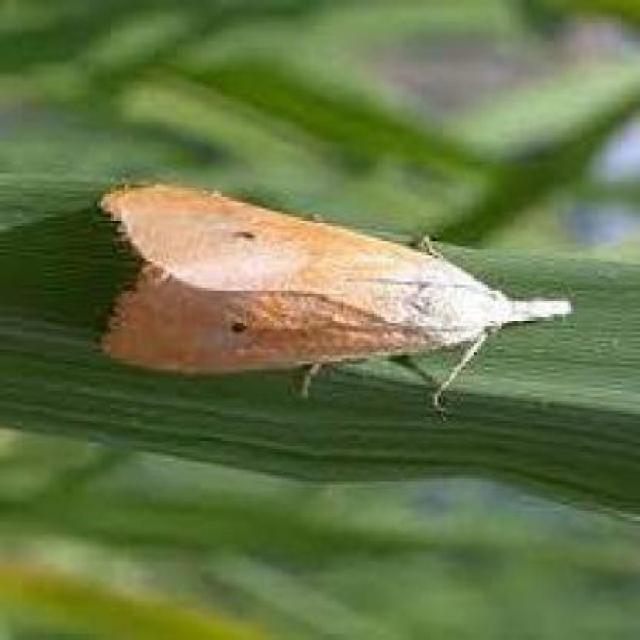stem-borer: (95, 178, 576, 405)
